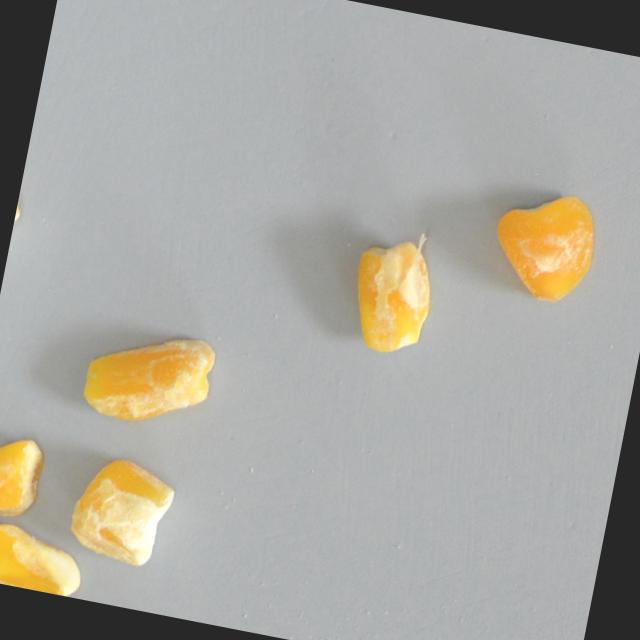pelicula: (87, 310, 209, 465), (56, 445, 185, 577), (483, 188, 607, 309), (326, 247, 462, 344), (0, 524, 89, 599), (0, 435, 51, 523)
